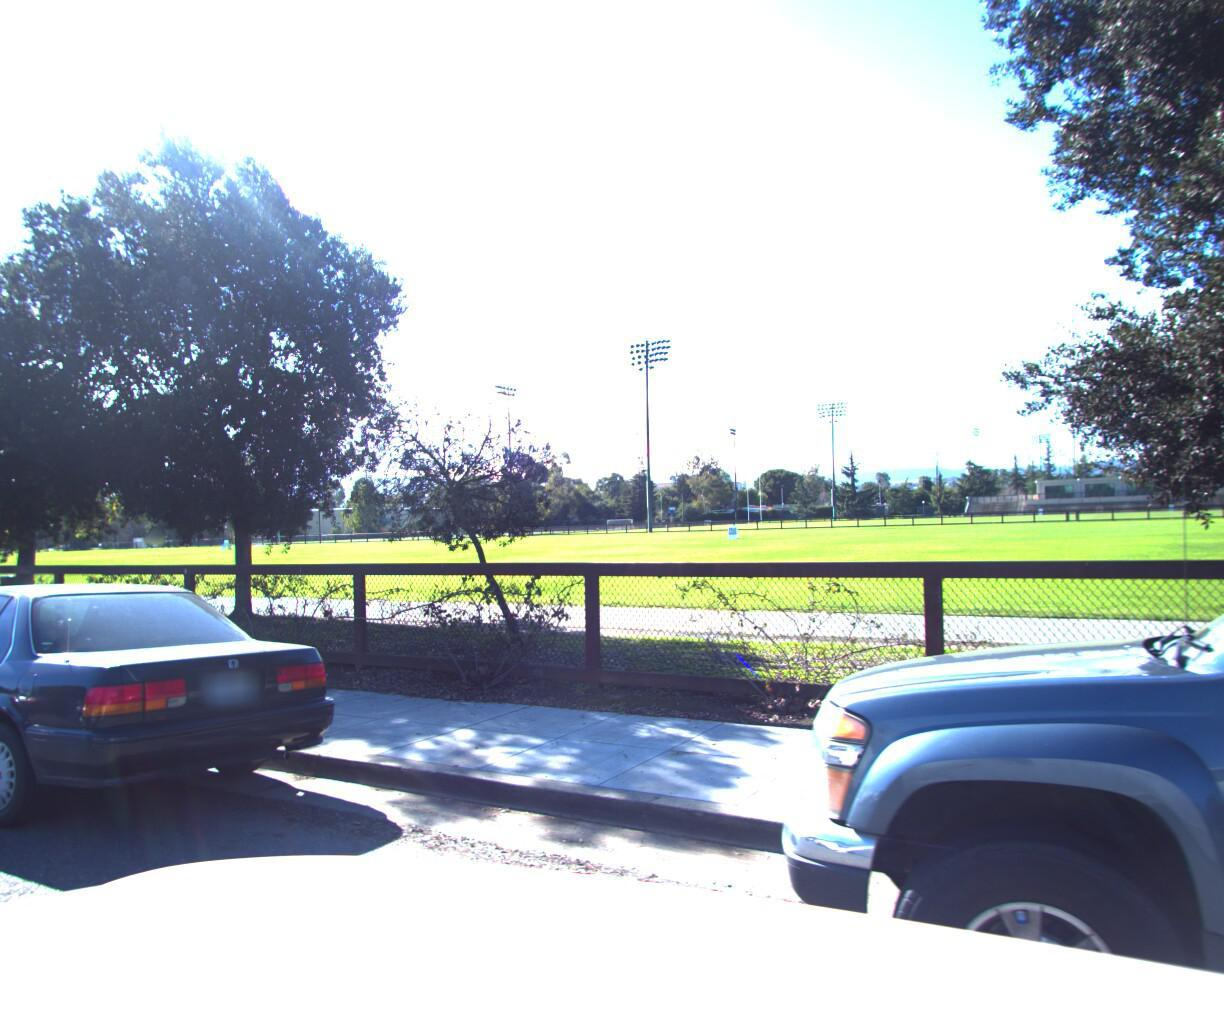car: (0, 569, 365, 896)
